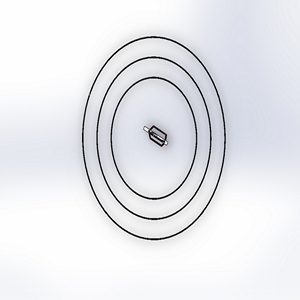circle: (72, 28, 235, 254)
submarine: (137, 116, 175, 153)
